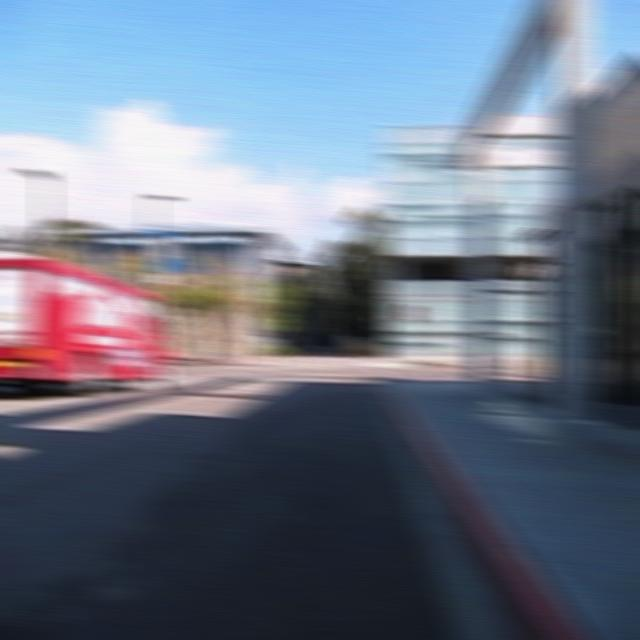stop_sign: (398, 302, 421, 322)
